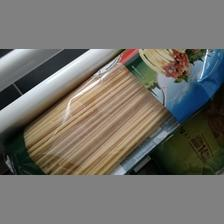Nudeln: (3, 48, 222, 172)
